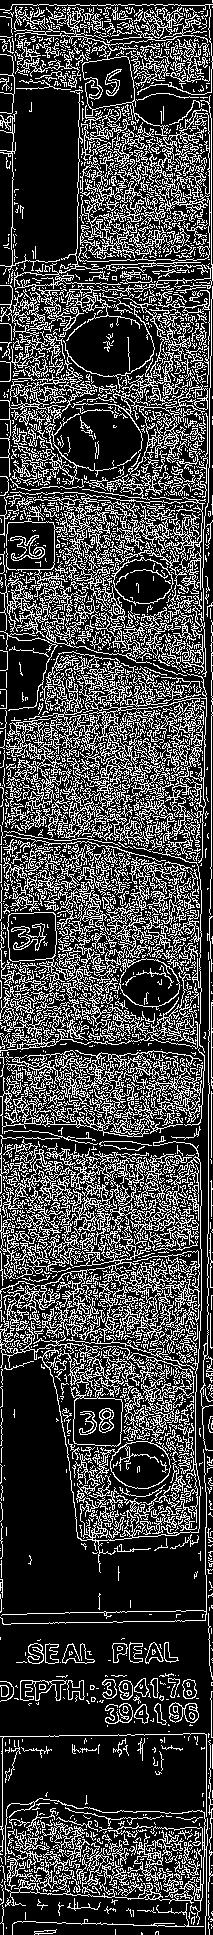hplug: (103, 1434, 183, 1512), (111, 950, 191, 1024), (107, 545, 179, 622)
scal: (49, 294, 167, 390), (49, 392, 163, 490)
vplug: (1, 1338, 94, 1546), (9, 60, 91, 288)
